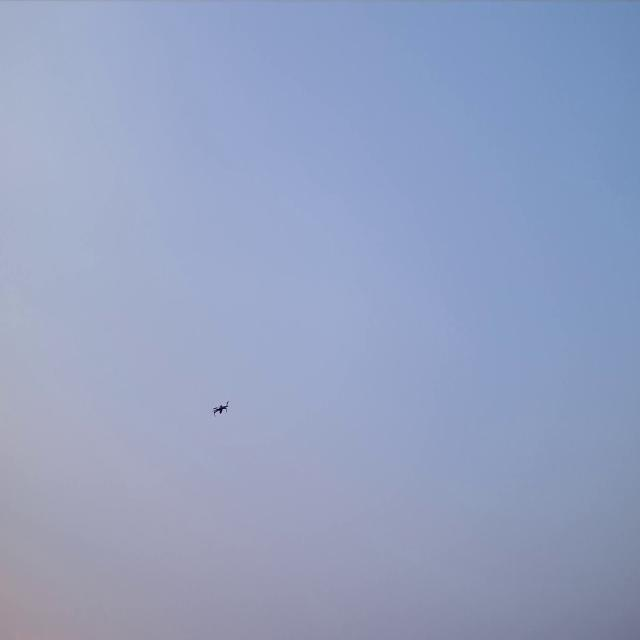UAV: (211, 399, 229, 418)
